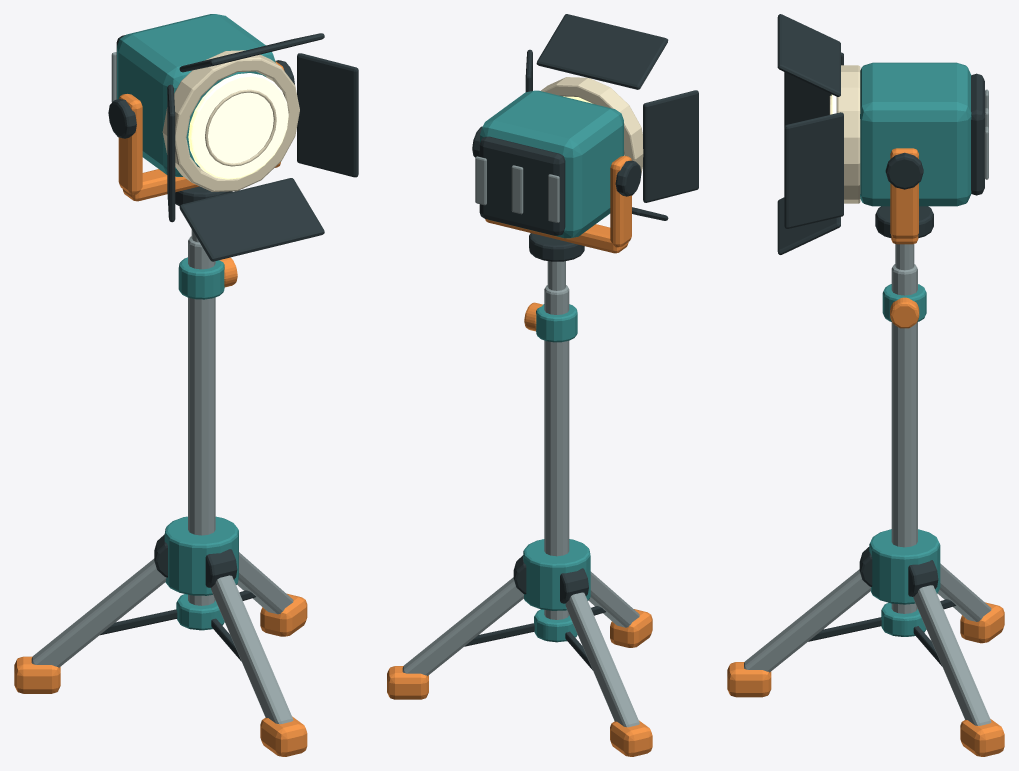
File: spotlight.glb
3 renders of one model, left to right at view 1: azimuth 30°, elevation 25°; view 2: azimuth 150°, elevation 25°; view 3: azimuth 270°, elevation 25°, orthographic. The views are drawn at different scales.
Parts seen in each view (by area): view 1: light_housing, light_lamp_face, light_bottom_barn, light_lower_pole, light_right_barn, light_cream_bezel, light_leg_2, light_leg_1, light_base_collar, light_yoke_arm, light_leg_0, light_height_clamp (+11 smaller); view 2: light_housing, light_lower_pole, light_top_barn, light_back, light_left_barn, light_leg_1, light_leg_0, light_base_collar, light_cream_bezel, light_yoke_arm, light_leg_2, light_height_clamp (+13 smaller); view 3: light_housing, light_lower_pole, light_right_barn, light_top_barn, light_leg_0, light_leg_2, light_base_collar, light_cream_bezel, light_left_barn, light_yoke_arm.001, light_back, light_bottom_barn (+12 smaller).
Boxes of the visible parts, x1,y1,x2,y2 form: light_housing: (117, 14, 275, 176); light_lamp_face: (188, 73, 288, 179); light_bottom_barn: (179, 178, 324, 261); light_lower_pole: (188, 236, 215, 605); light_right_barn: (297, 53, 358, 177); light_cream_bezel: (162, 50, 299, 191); light_leg_2: (211, 575, 293, 724); light_leg_1: (31, 558, 166, 667); light_base_collar: (164, 516, 238, 595); light_yoke_arm: (118, 93, 142, 194); light_leg_0: (237, 552, 293, 614); light_height_clamp: (178, 257, 224, 299); light_housing: (480, 90, 623, 238); light_lower_pole: (544, 285, 569, 619); light_top_barn: (536, 14, 668, 89); light_back: (479, 136, 565, 235); light_left_barn: (643, 90, 698, 202); light_leg_1: (565, 592, 639, 727); light_leg_0: (402, 577, 523, 675); light_base_collar: (523, 539, 590, 610); light_cream_bezel: (541, 77, 643, 173); light_yoke_arm: (610, 156, 631, 247); light_leg_2: (588, 571, 639, 627); light_height_clamp: (536, 304, 577, 342); light_housing: (860, 62, 971, 206); light_lower_pole: (891, 264, 917, 613); light_right_barn: (784, 112, 843, 228); light_top_barn: (777, 14, 840, 96); light_leg_0: (913, 585, 991, 725); light_leg_2: (744, 569, 870, 672); light_base_collar: (869, 529, 940, 604); light_cream_bezel: (836, 65, 860, 203); light_left_barn: (784, 52, 843, 126); light_yoke_arm.001: (890, 148, 918, 238); light_back: (971, 73, 984, 195); light_bottom_barn: (777, 197, 840, 254).
Bounding box in the file's own units: 0.9393 × 2.14 × 0.8208.
